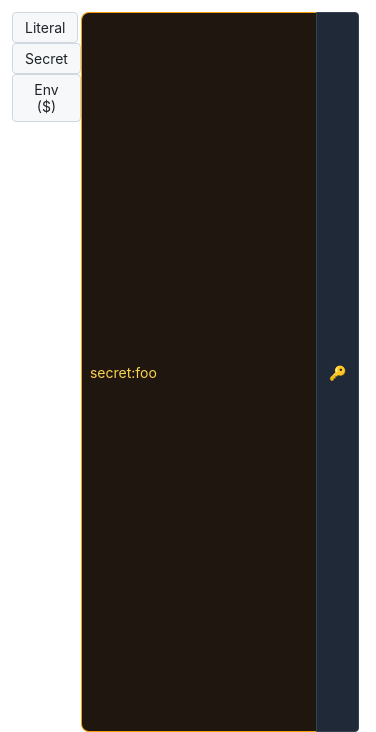
SecretPicker — case 10: snapshot.status=error → Retry-only dropdown body › with status=error and fetchedAt=null, dropdown shows 'Retry loading vault' button only
What coordinates should you click on to do the following:
click the button named "Pick secret"
I would click on:
 (338, 372)
Its box is 316,12 -> 359,731.
(page scrolled)
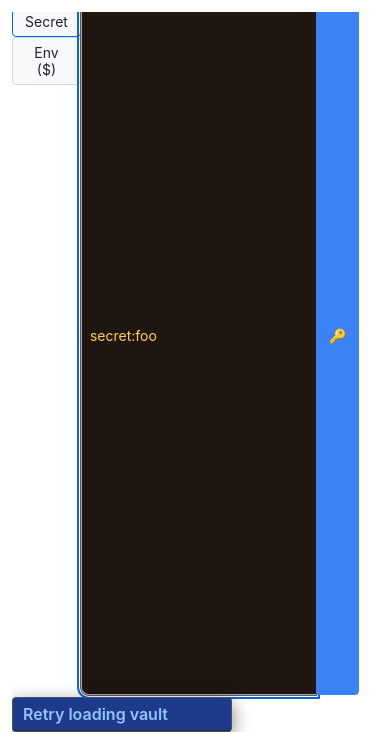
Check: the option "Retry loading vault" is shown, box 13,698 -> 231,731
